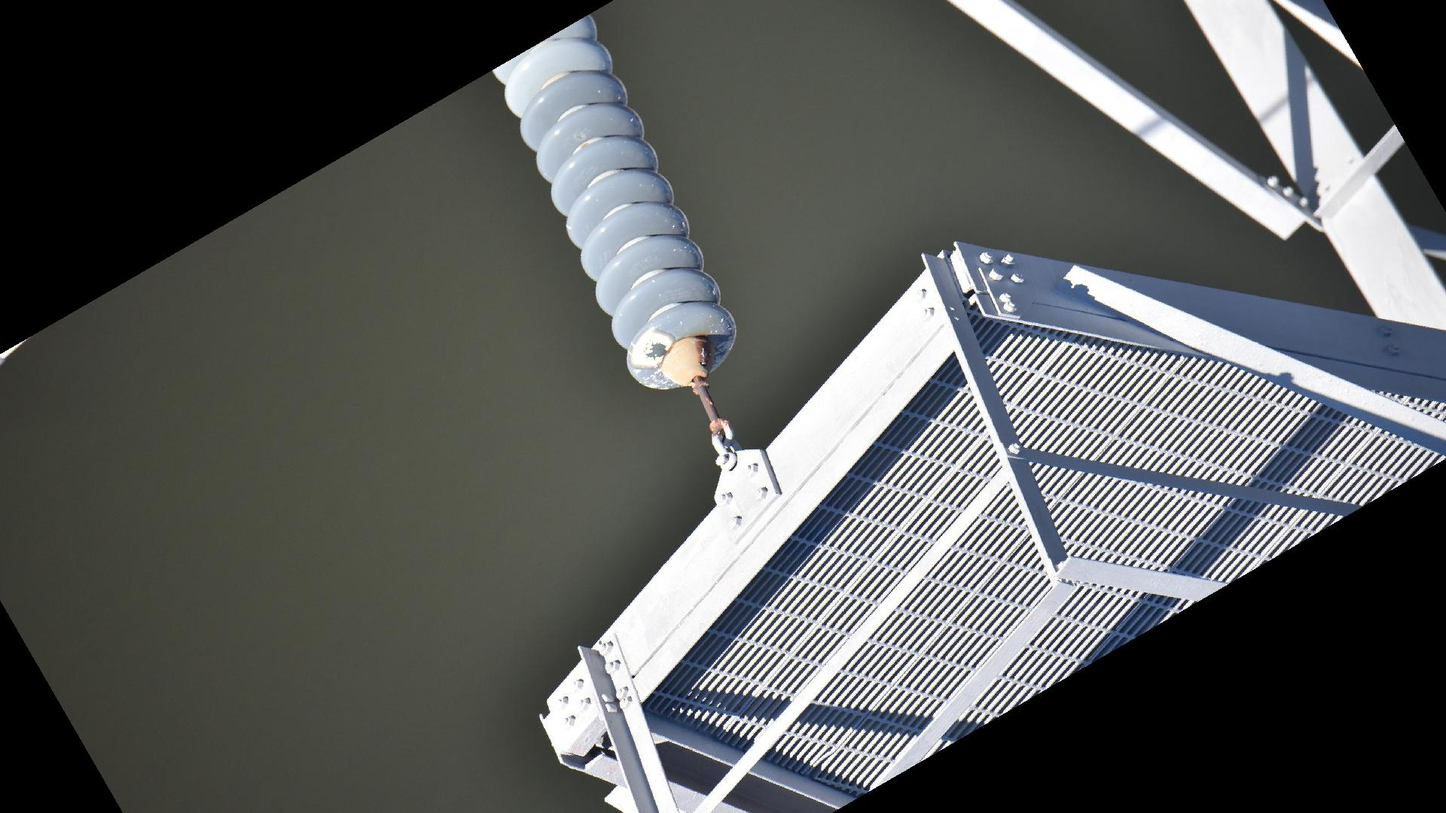insulator: (484, 1, 744, 403)
insulator_flashover: (626, 325, 676, 372)
